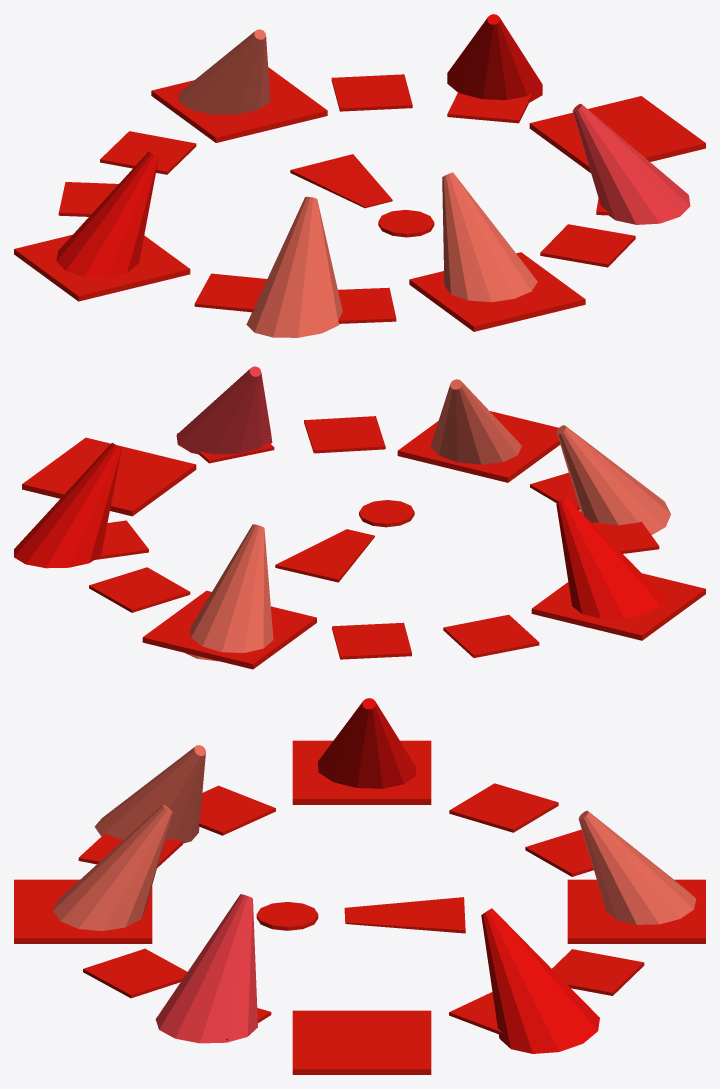
File: Snare_Idle.fbx
The picture shows the model from 3 angles, top to bottom: view 1: azimuth 30°, elevation 25°; view 2: azimuth 150°, elevation 25°; view 3: azimuth 270°, elevation 25°; orthographic projection. The views are drawn at different scales.
Parts seen in each view (by area): view 1: m_Senal_Trampa; view 2: m_Senal_Trampa; view 3: m_Senal_Trampa.
Boxes of the visible parts, <box> form: m_Senal_Trampa: <box>14,14,705,337</box>; m_Senal_Trampa: <box>14,366,705,669</box>; m_Senal_Trampa: <box>14,698,705,1074</box>.
Size of the model in its own units: 589 by 96.16 by 524.
